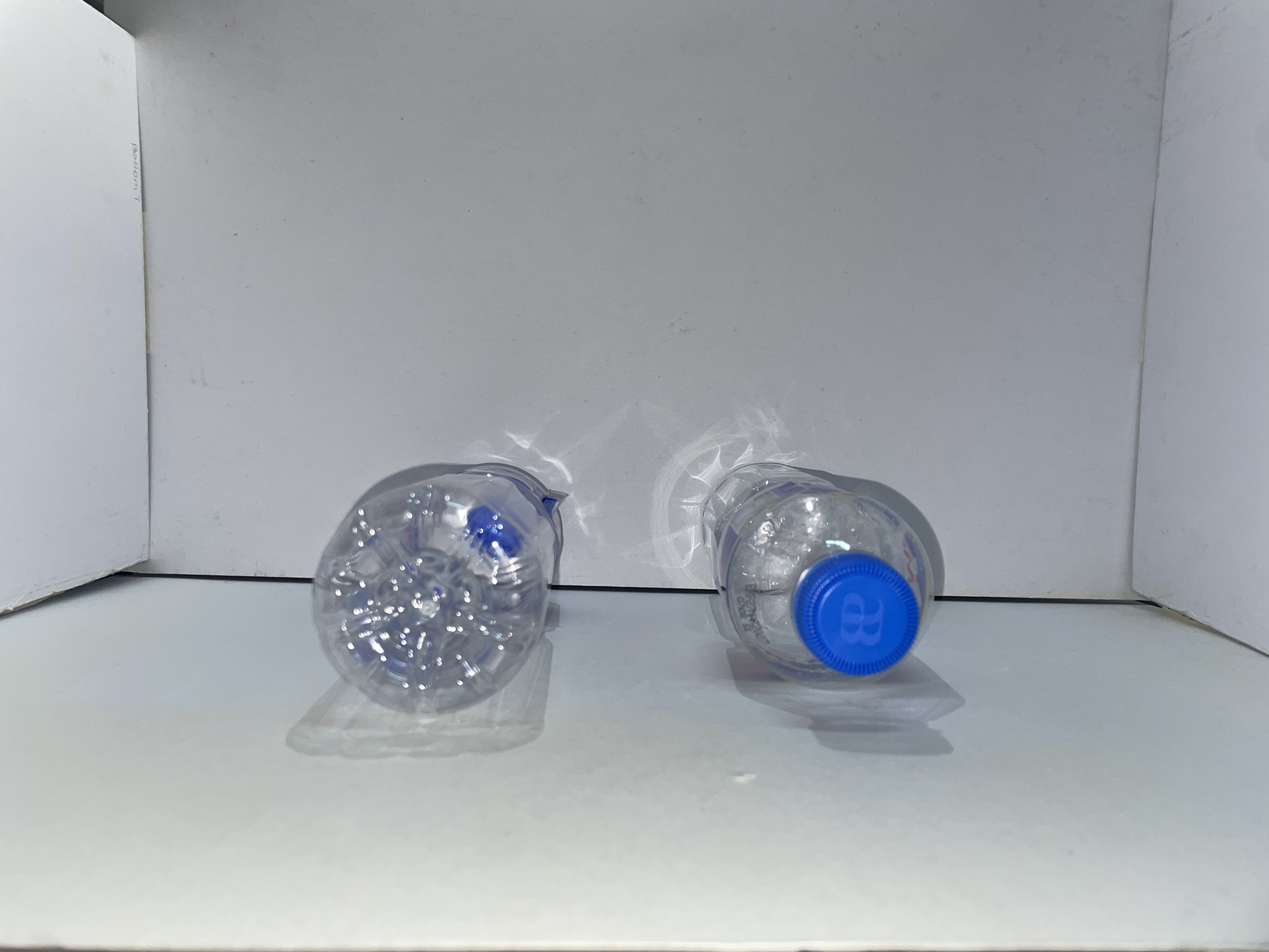Summit 500mL: (313, 464, 563, 714), (702, 463, 932, 688)
